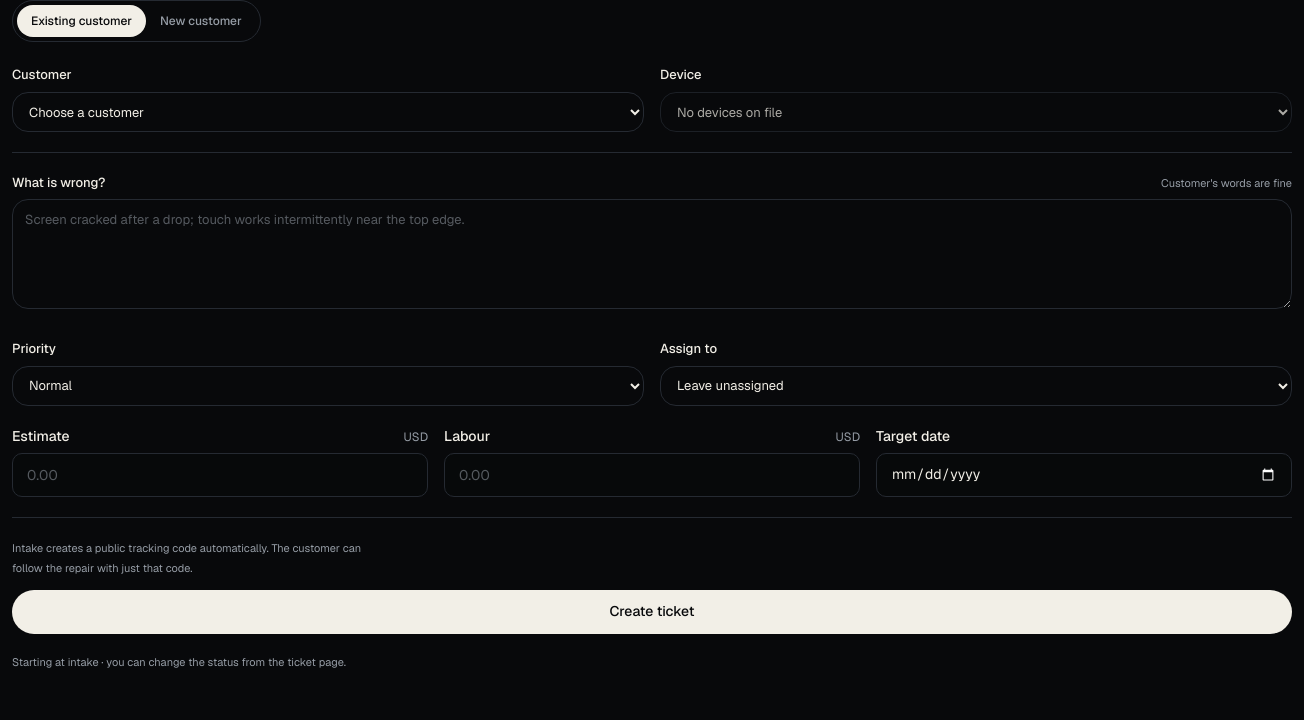
TicketIntakeForm › starts with no customer selected and asks for a device
Expected: the dropdown labelled "Device" is disabled, 660,92 -> 1292,132
Expected: the text box labelled "What is wrong?" is shown, 12,198 -> 1292,308
Select "Maya Chen · 415-555-0142" in the dropdown labelled "Customer" at (328, 112), box 12,92 -> 644,132
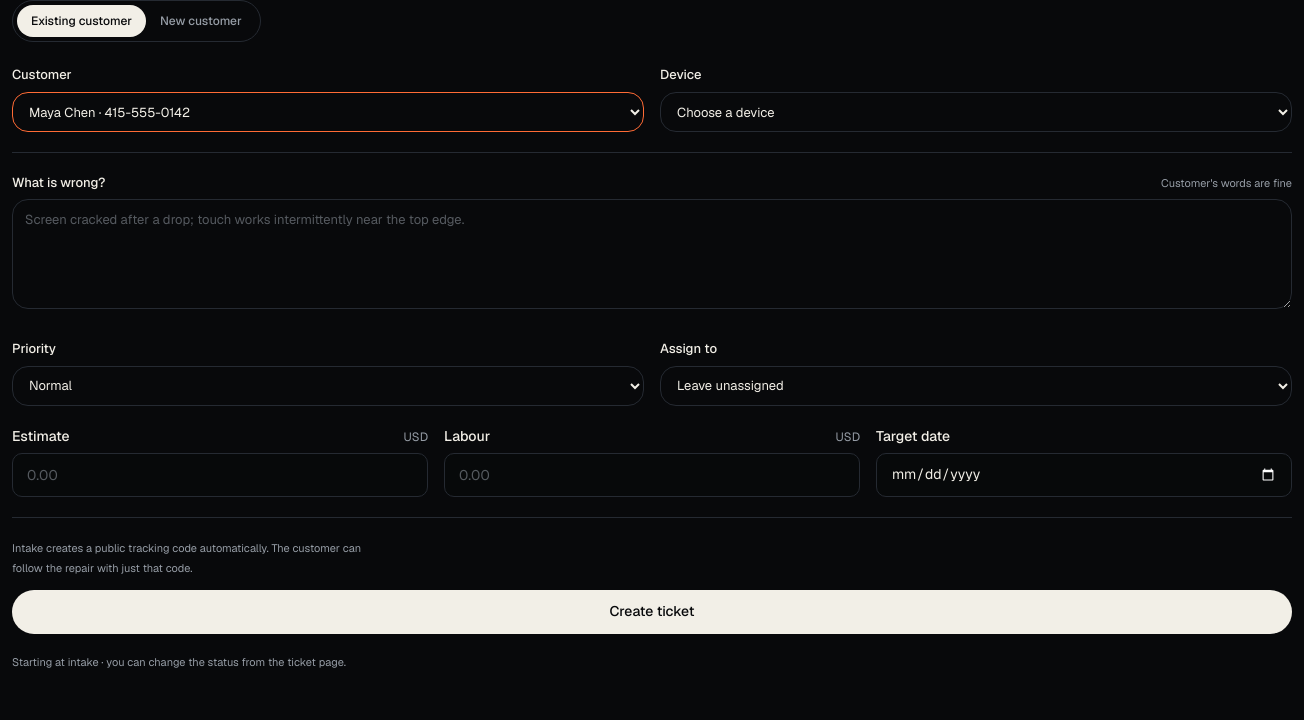
Expected: the dropdown labelled "Device" shows "Choose a device"
Expected: the dropdown labelled "Device" is enabled
Select "Apple iPhone 15 Pro" in the dropdown labelled "Device" at (976, 112), box 660,92 -> 1292,132
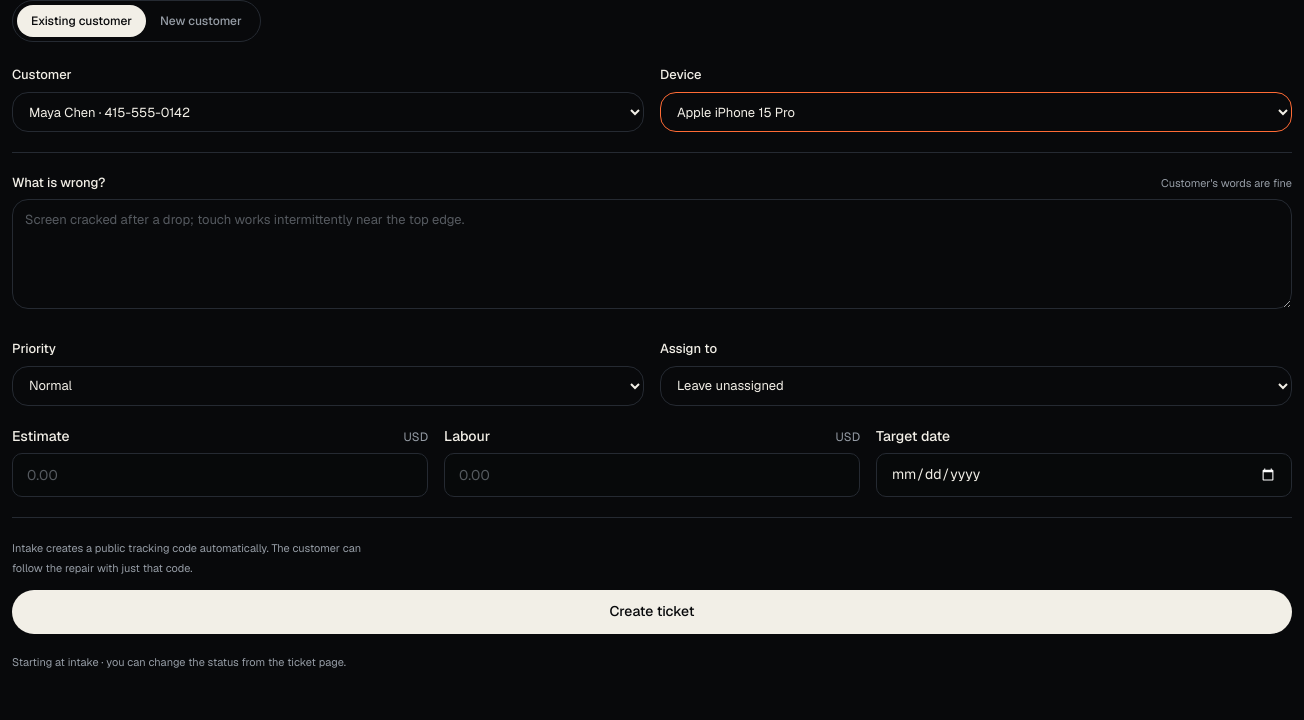
Select "Daniel Ortiz · 415-555-0188" in the dropdown labelled "Customer" at (328, 112), box 12,92 -> 644,132
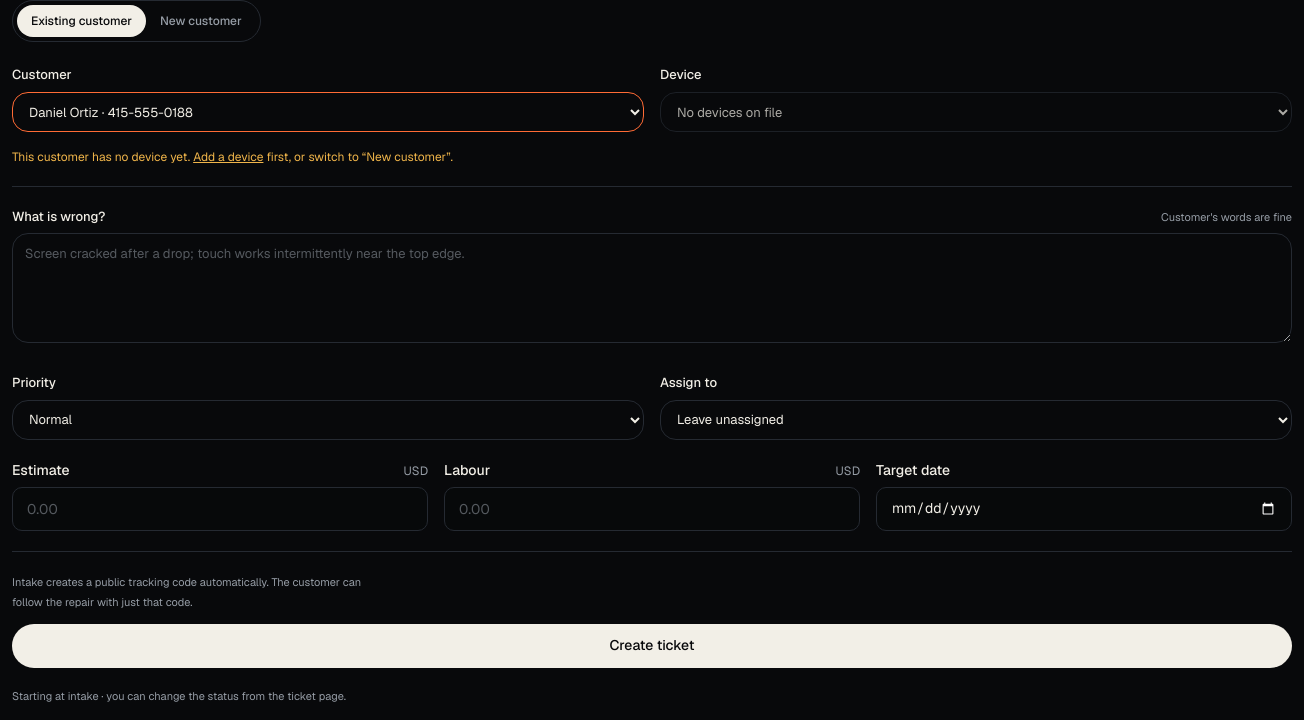
Expected: the dropdown labelled "Device" is disabled, 660,92 -> 1292,132
Expected: the text "This customer has no device yet" is shown, 12,149 -> 190,165
